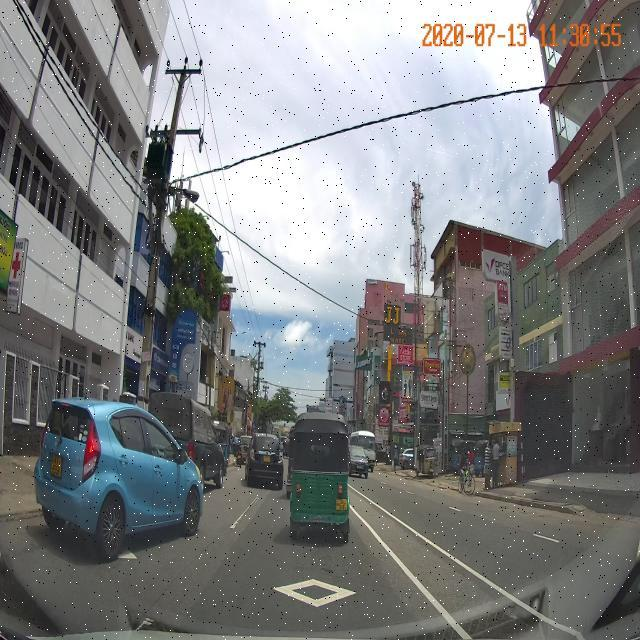diamond: (170, 549, 470, 631)
